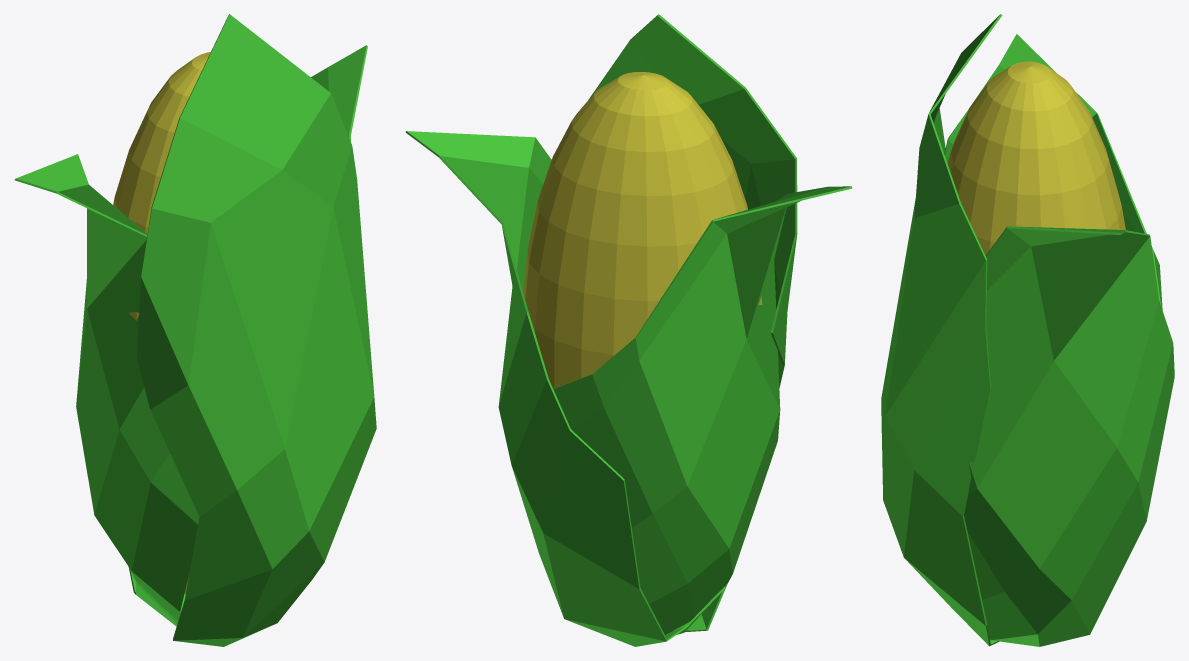
Rendered from mazorca_verde.fbx.
3 views of the same model, side by side, from view 1: azimuth 30°, elevation 25°; view 2: azimuth 150°, elevation 25°; view 3: azimuth 270°, elevation 25° (orthographic). The views are drawn at different scales.
Visible parts, largest first — view 1: Mazorca_amarilla; view 2: Mazorca_amarilla; view 3: Mazorca_amarilla.
Boxes of the visible parts, box(x1,y1,x2,y2) form: Mazorca_amarilla: box(14, 14, 376, 646); Mazorca_amarilla: box(405, 14, 852, 646); Mazorca_amarilla: box(881, 14, 1174, 646).
Bounding box in the file's own units: 201 × 301 × 127.
